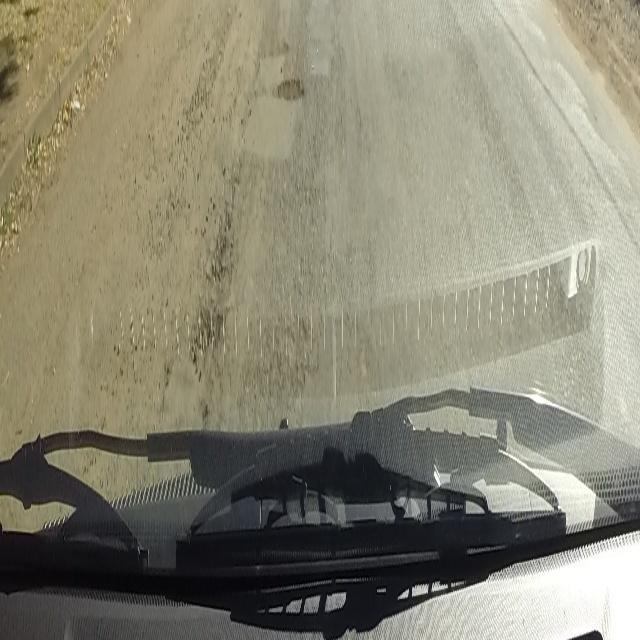pothole: (274, 70, 309, 107)
